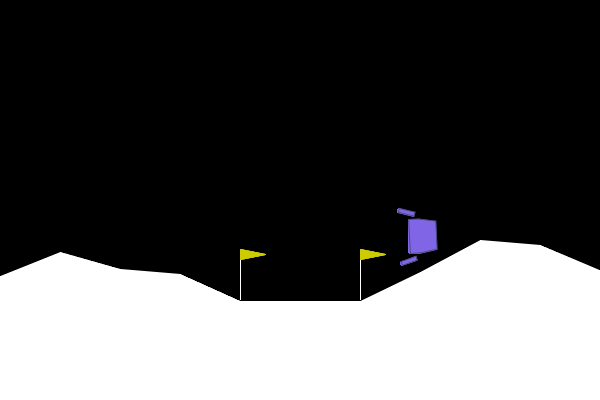lander: (397, 205, 440, 267)
